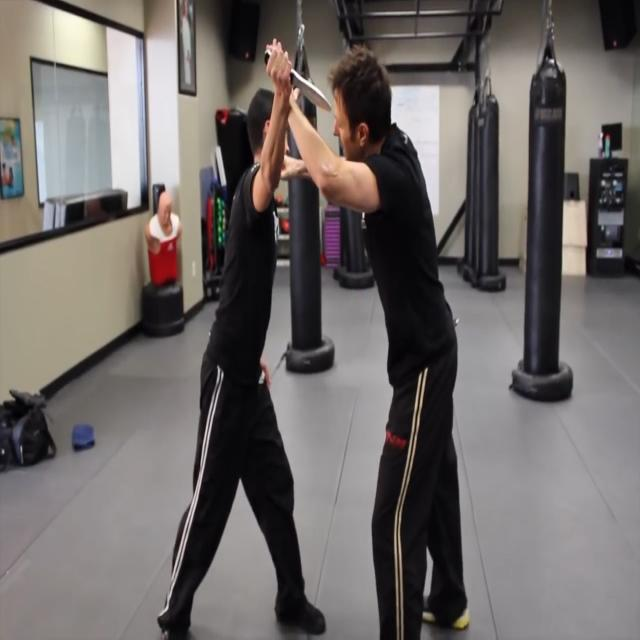knife: (264, 48, 334, 118)
